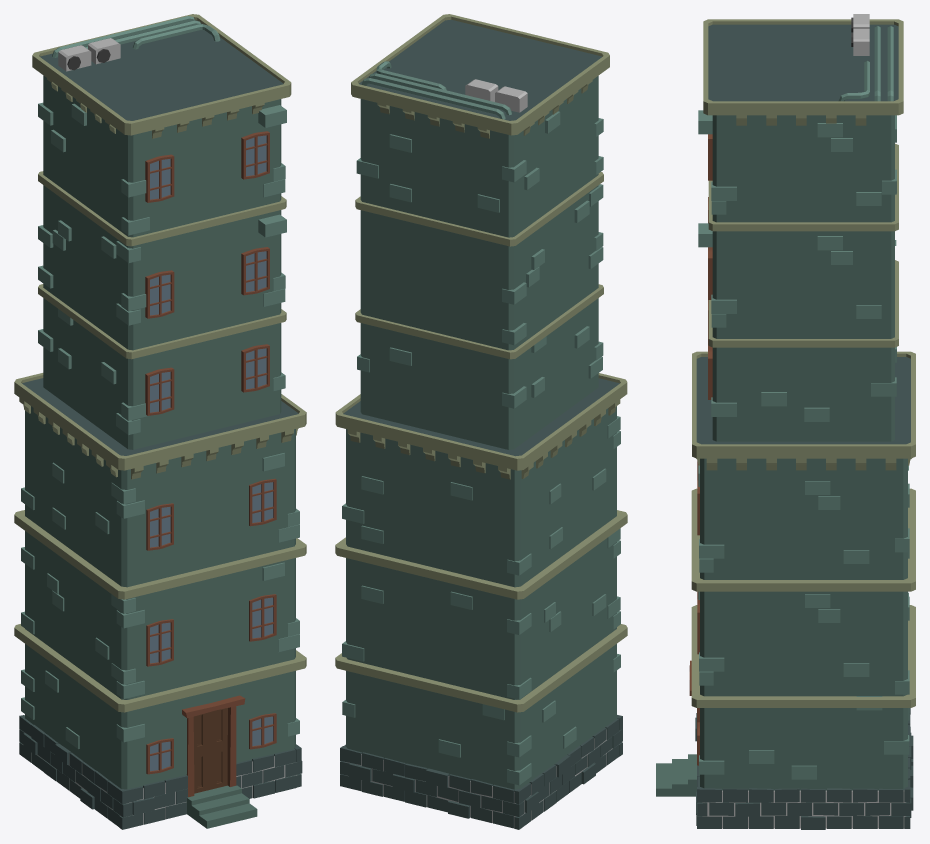
Rendered from 6Story_Stack_Mat.glb.
3 renders of one model, left to right at view 1: azimuth 30°, elevation 25°; view 2: azimuth 150°, elevation 25°; view 3: azimuth 270°, elevation 25°, orthographic. The views are drawn at different scales.
Parts seen in each view (by area): view 1: 6Story_Stack_Mat; view 2: 6Story_Stack_Mat; view 3: 6Story_Stack_Mat.
Boxes of the visible parts, box(x1,y1,x2,y2) form: 6Story_Stack_Mat: box(14, 14, 306, 829); 6Story_Stack_Mat: box(335, 14, 627, 829); 6Story_Stack_Mat: box(656, 14, 915, 829).
Bounding box in the file's own units: 2.16 × 7.8 × 2.5.
